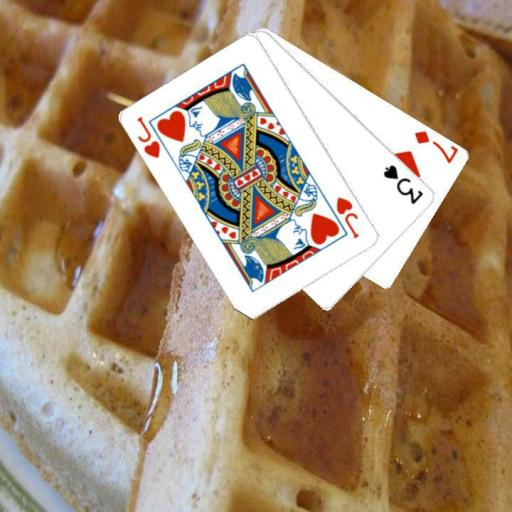3S: (381, 162, 426, 206)
7D: (411, 127, 459, 165)
JH: (134, 113, 163, 160), (333, 194, 361, 241)
